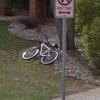Bicycle: (18, 33, 61, 70)
